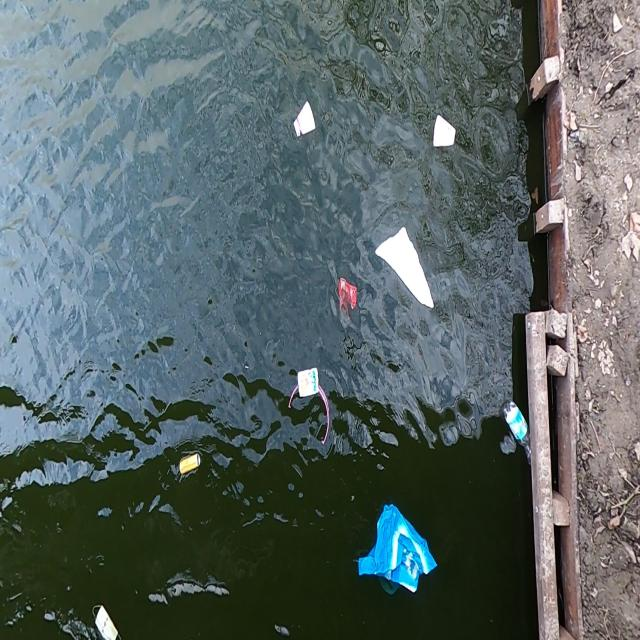Autre plastique: (372, 221, 440, 316), (297, 367, 322, 398)
Non plastique: (427, 109, 460, 155), (288, 98, 322, 140), (89, 598, 123, 640), (174, 451, 204, 479)
Sac plastique: (355, 499, 439, 599)
